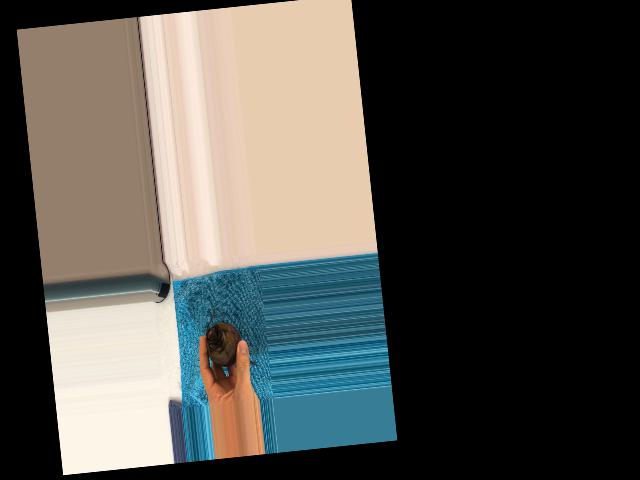beet: (203, 304, 258, 370)
